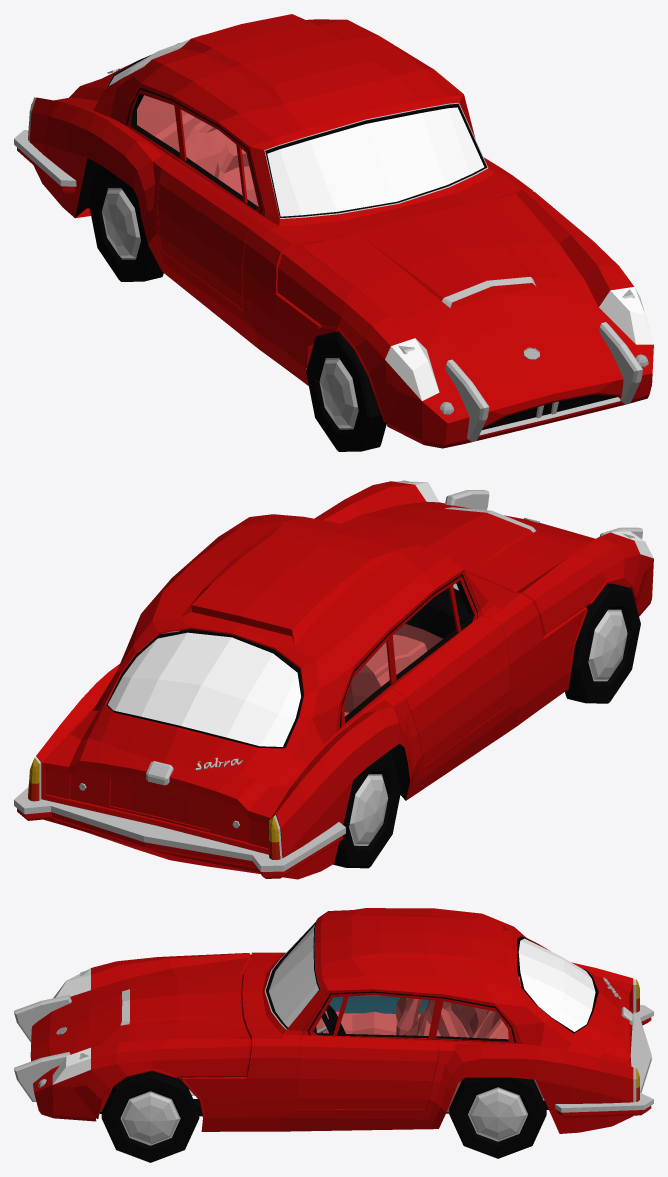
Rendered from Sabre (1).fbx.
3 views of the same model, one above another, from view 1: azimuth 30°, elevation 25°; view 2: azimuth 150°, elevation 25°; view 3: azimuth 270°, elevation 25° (orthographic). The views are drawn at different scales.
Parts seen in each view (by area): view 1: polySurface26, polySurface59, Door2, Wheel, Wheel1, polySurface58, BackPiece, pCube3; view 2: polySurface26, polySurface59, Door2, pCube3, Rear_Door5, Wheel, Wheel1, polySurface58, Panel, polySurface7; view 3: polySurface26, polySurface59, Door, Wheel, Wheel1, polySurface58, pCube3, Door2, Steering_Wheel.
Boxes of the visible parts, box(x1,y1,x2,y2) form: polySurface26: box(28, 14, 533, 385); polySurface59: box(277, 189, 653, 448); Door2: box(157, 95, 265, 309); Wheel: box(306, 331, 386, 451); Wheel1: box(88, 165, 163, 281); polySurface58: box(179, 121, 258, 206); BackPiece: box(137, 95, 201, 151); pCube3: box(14, 130, 76, 193); polySurface26: box(35, 514, 587, 879); polySurface59: box(314, 480, 653, 636); Door2: box(386, 569, 510, 766); pCube3: box(14, 787, 345, 878); Rear_Door5: box(69, 768, 249, 842); Wheel: box(565, 583, 640, 703); Wheel1: box(333, 752, 401, 868); polySurface58: box(344, 634, 427, 712); Panel: box(394, 588, 468, 650); polySurface7: box(28, 758, 280, 859); polySurface26: box(180, 908, 636, 1133); polySurface59: box(14, 953, 251, 1121); Door: box(299, 989, 444, 1109); Wheel: box(101, 1071, 199, 1162); Wheel1: box(449, 1077, 546, 1158); polySurface58: box(324, 997, 496, 1038); pCube3: box(555, 1005, 653, 1117); Door2: box(325, 995, 428, 1014); Steering_Wheel: box(316, 1005, 345, 1033).
Bounding box in the file's own units: 9.62 × 7.63 × 24.59.
